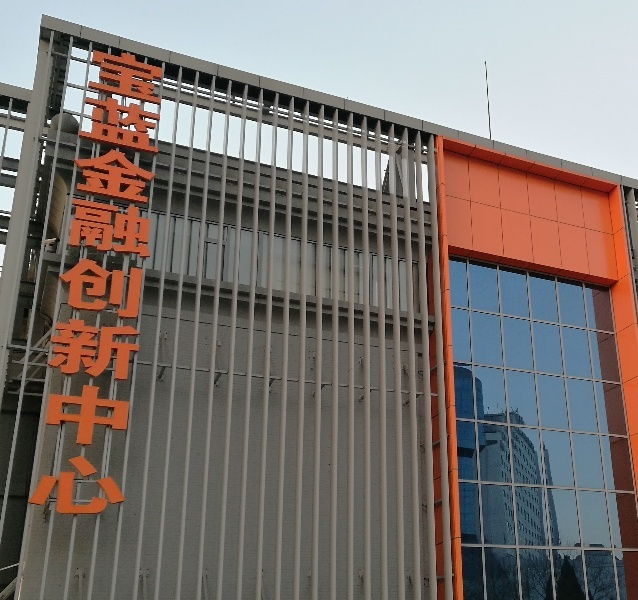text: (97, 47, 112, 525), (113, 47, 128, 525), (129, 47, 144, 525), (145, 47, 160, 525), (161, 47, 169, 525), (93, 47, 96, 525)
